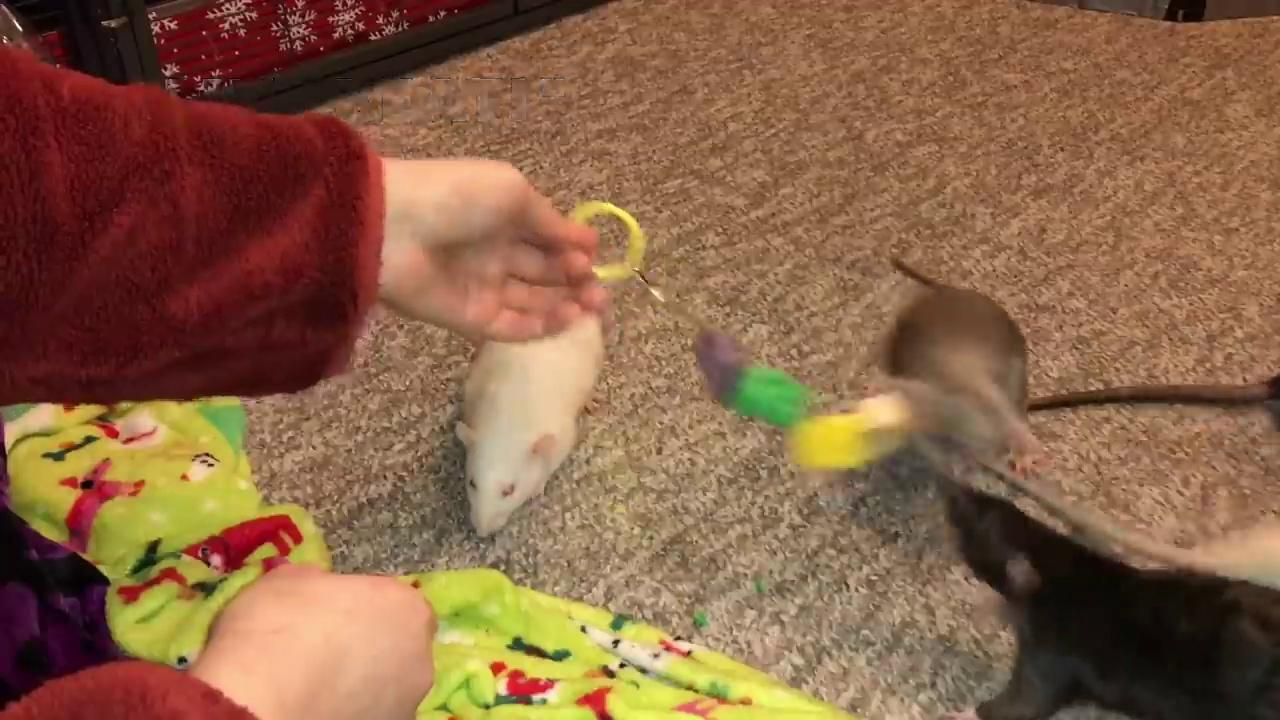rat: (947, 487, 1277, 720), (454, 316, 607, 541), (875, 285, 1046, 470)
